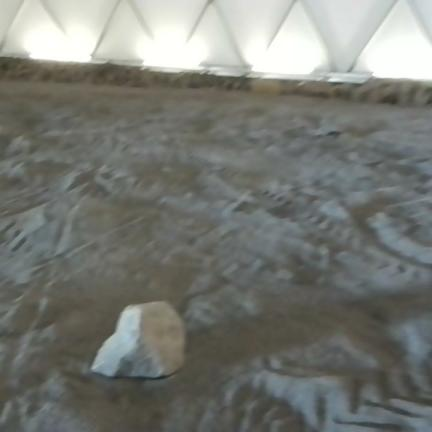Rock: (92, 302, 185, 378)
